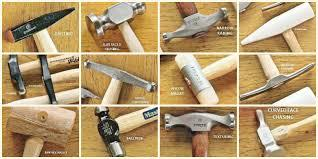hammer: (93, 104, 159, 156)
